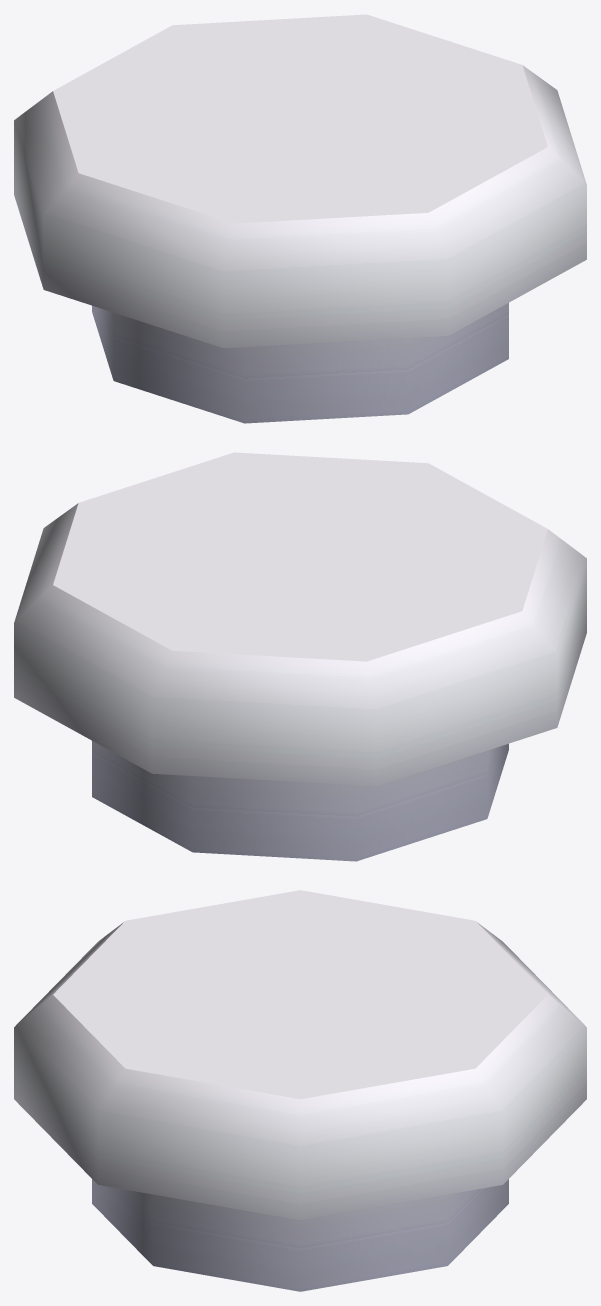
File: none-hq-plate-1x1-round.glb
3 renders of one model, top to bottom at view 1: azimuth 30°, elevation 25°; view 2: azimuth 150°, elevation 25°; view 3: azimuth 270°, elevation 25°, orthographic. The views are drawn at different scales.
Visible parts, largest first — view 1: none-hq-plate-1x1-round; view 2: none-hq-plate-1x1-round; view 3: none-hq-plate-1x1-round.
Boxes of the visible parts, x1,y1,x2,y2 form: none-hq-plate-1x1-round: (14, 14, 586, 423); none-hq-plate-1x1-round: (14, 452, 586, 861); none-hq-plate-1x1-round: (14, 890, 586, 1291).
Bounding box in the file's own units: 0.0795 × 0.032 × 0.0795.
Materials: 1 (1 with a texture image).
